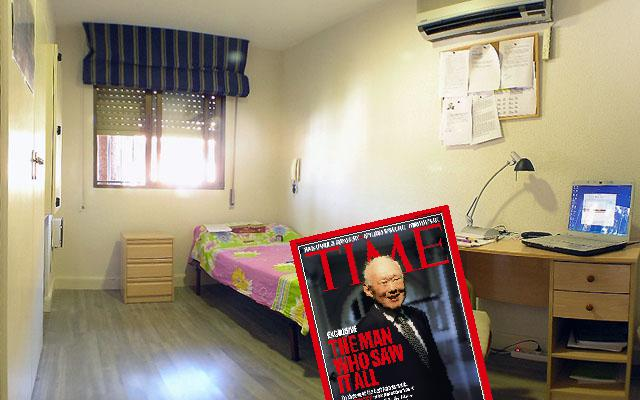times: (288, 203, 493, 400)
